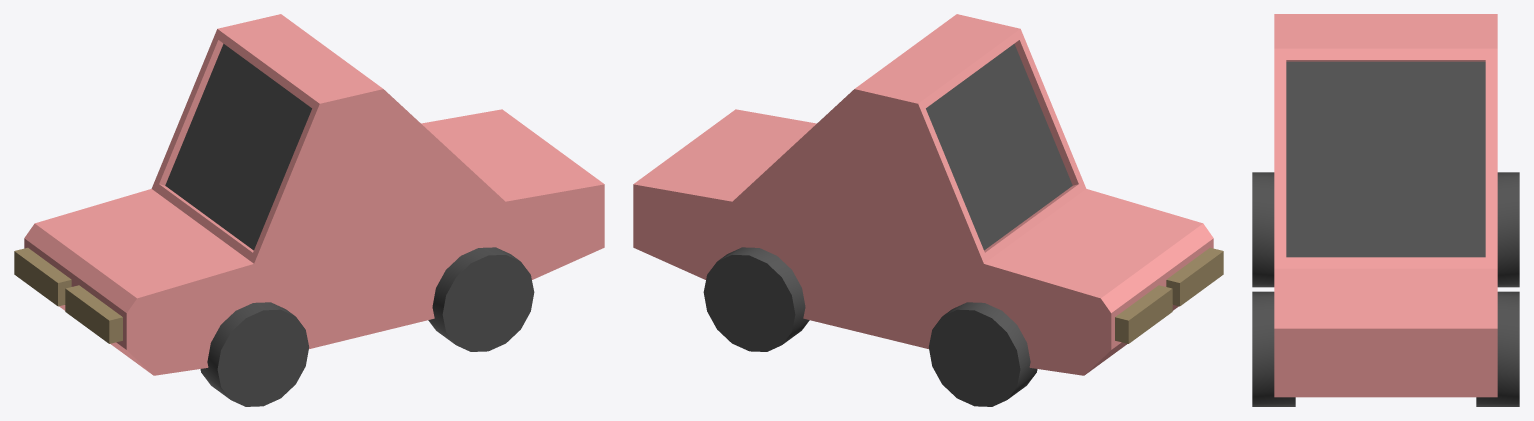
The model's file is car-custom-red.glb.
The picture shows the model from 3 angles, left to right: view 1: azimuth 30°, elevation 25°; view 2: azimuth 150°, elevation 25°; view 3: azimuth 270°, elevation 25°; orthographic projection. The views are drawn at different scales.
Visible parts, largest first — view 1: Cube, WINDHIELD, Cylinder, Cylinder 1, lights; view 2: Cube, WINDHIELD, Cylinder 2, Cylinder 3, lights; view 3: Cube, WINDHIELD, Cylinder 1, Cylinder 3, Cylinder 2, Cylinder.
Boxes of the visible parts, <box> form: Cube: <box>24,14,604,375</box>; WINDHIELD: <box>165,43,311,250</box>; Cylinder: <box>200,302,309,406</box>; Cylinder 1: <box>428,247,534,351</box>; lights: <box>14,247,122,343</box>; Cube: <box>633,14,1213,375</box>; WINDHIELD: <box>926,43,1072,250</box>; Cylinder 2: <box>928,302,1037,406</box>; Cylinder 3: <box>703,247,809,351</box>; lights: <box>1115,247,1223,343</box>; Cube: <box>1274,14,1497,397</box>; WINDHIELD: <box>1286,61,1485,257</box>; Cylinder 1: <box>1252,291,1295,406</box>; Cylinder 3: <box>1476,291,1519,406</box>; Cylinder 2: <box>1497,172,1519,287</box>; Cylinder: <box>1252,172,1274,287</box>.
Size of the model in its own units: 0.1444 by 0.0782 by 0.0625.
